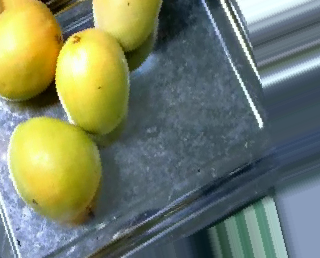Mango: (6, 114, 104, 224), (53, 25, 134, 133), (0, 0, 69, 109), (86, 0, 169, 54)
